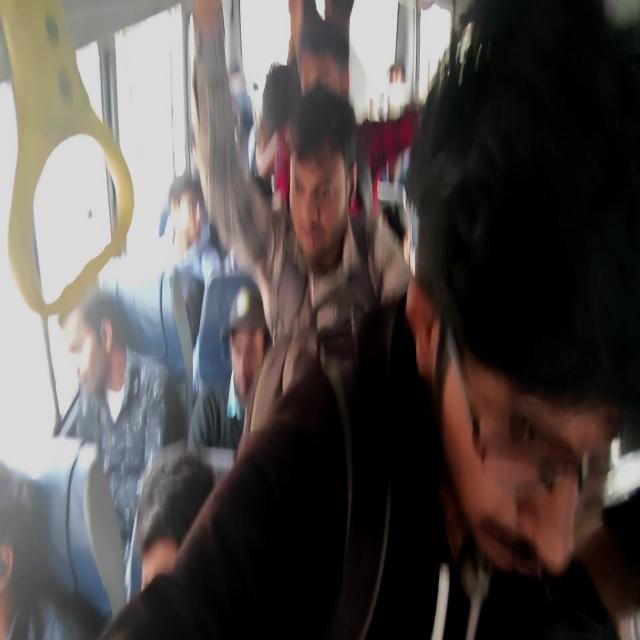person: (96, 1, 636, 637), (402, 3, 638, 636), (237, 82, 412, 462), (60, 288, 187, 600), (0, 460, 110, 638), (186, 280, 271, 456), (131, 449, 216, 595)
